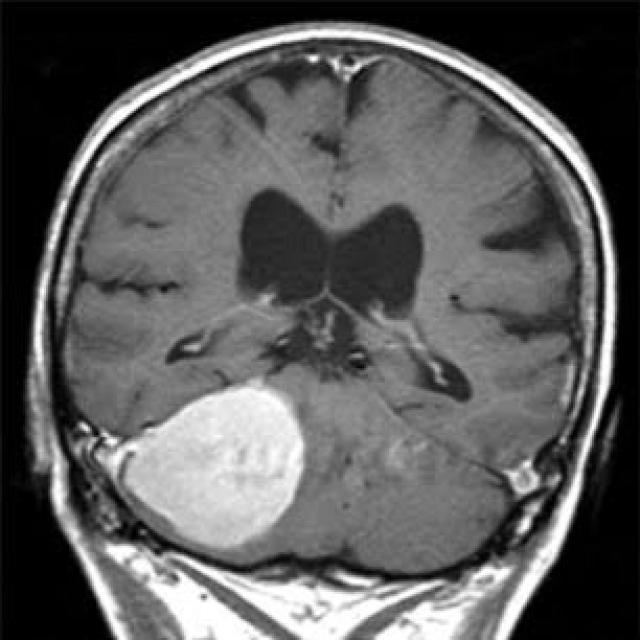brain_tumor: (95, 381, 305, 552)
